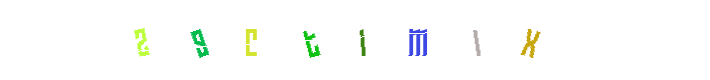1: (365, 0, 445, 80), (378, 0, 458, 80)
9: (207, 0, 287, 80)
C: (230, 0, 310, 80)
M: (376, 0, 456, 80)
T: (315, 0, 395, 80)
X: (490, 0, 570, 80)
Z: (176, 0, 256, 80)
